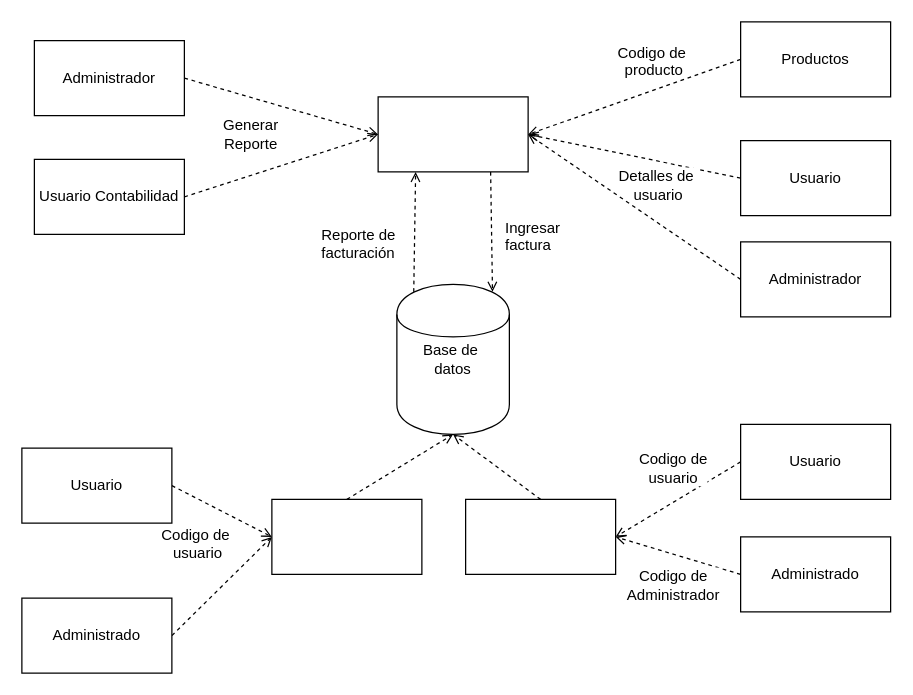
This 913x695 diagram has some shape labels left out. Here are the shapes that lost their labels. From the top down, the centre of each, then its label:
pixel 452 134: Facturación
pixel 346 536: Edición de inventarios
pixel 540 536: Edición de usuario
